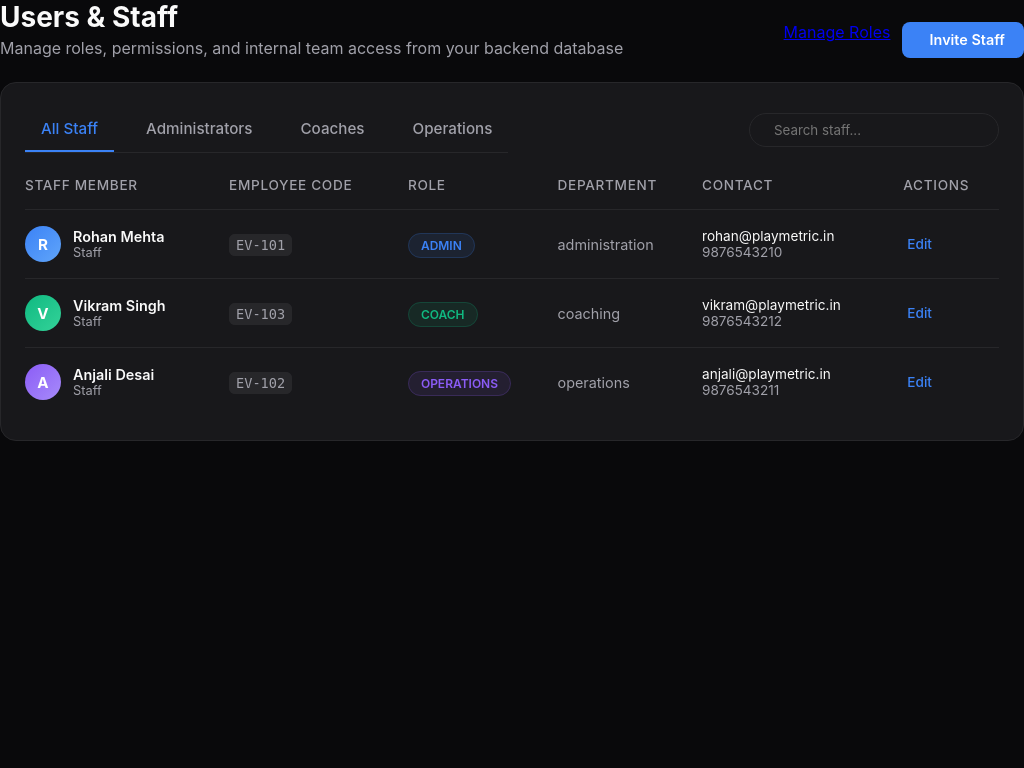
Test case: Users Page Directory tests › should render organization select dropdown for admin with options
Check: the text "Rohan Mehta" is shown, box left=73, top=228, right=164, bottom=245
Click the button "Invite Staff": (963, 40) left=902, top=22, right=1023, bottom=58
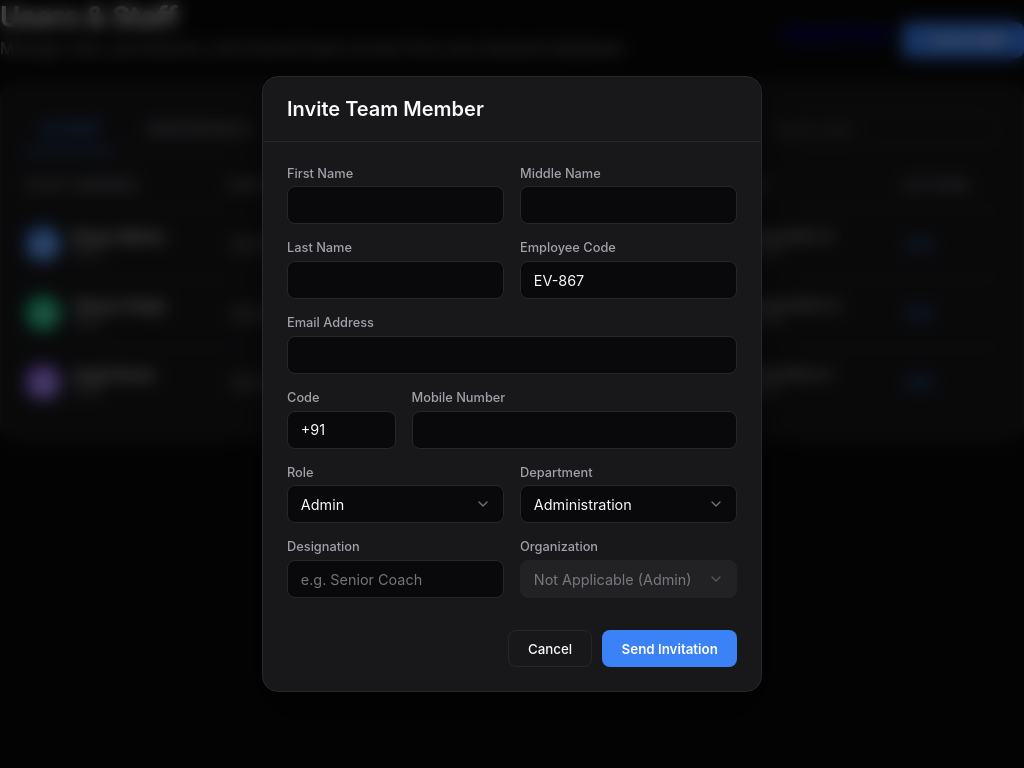
# Select coach to enable the organization dropdown
Select "Coach" in the dropdown labelled "Role": (396, 504) left=287, top=485, right=504, bottom=524
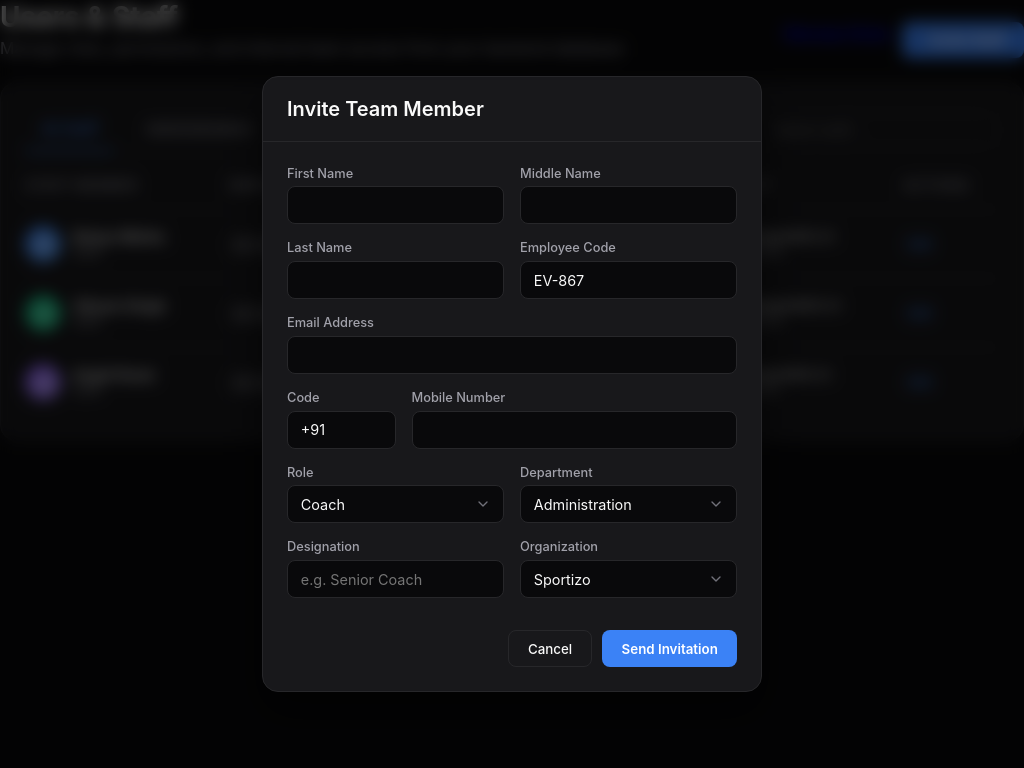
Check: the dropdown labelled "Organization" is enabled, box left=520, top=560, right=737, bottom=598
Check: the dropdown labelled "Organization" shows "Sportizo", box left=520, top=560, right=737, bottom=598
